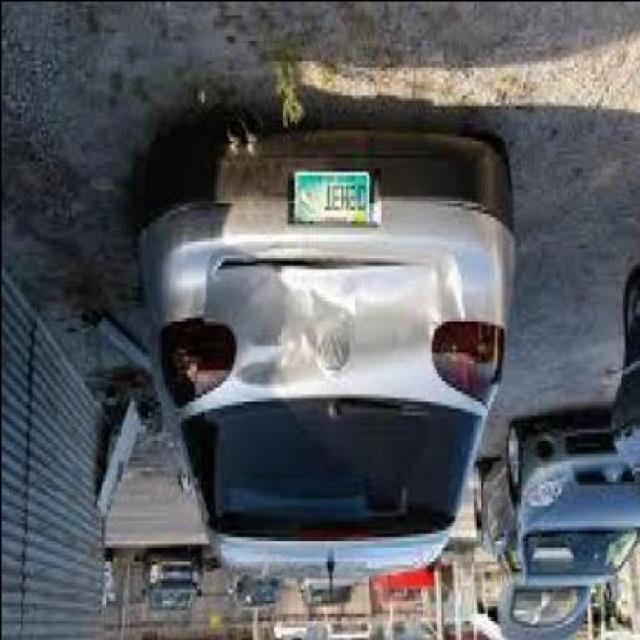damage: (235, 264, 459, 397)
